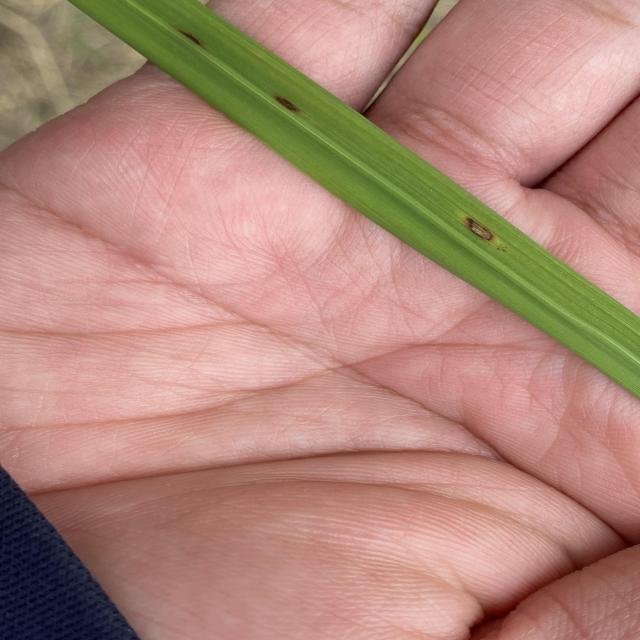Dom nau: (464, 217, 495, 243), (271, 93, 302, 114), (176, 29, 204, 48)
